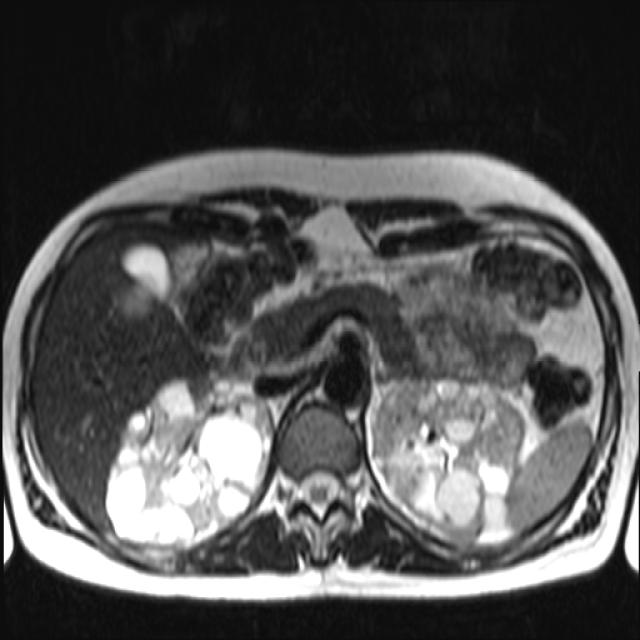sag: (107, 377, 276, 548)
sol: (367, 376, 531, 544)
